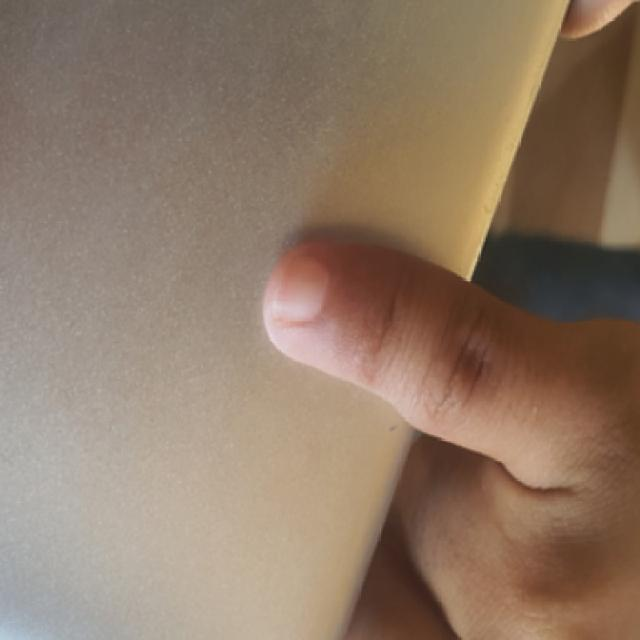Nail: (272, 252, 325, 322)
